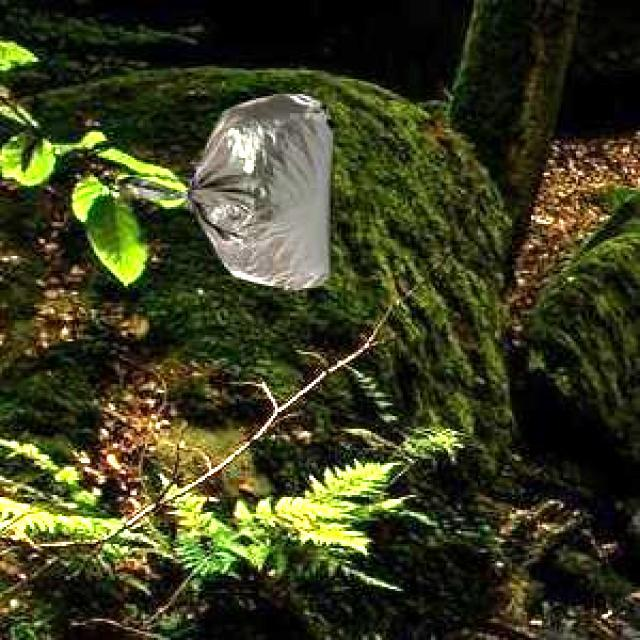Garbage_Bag: (114, 90, 330, 288)
